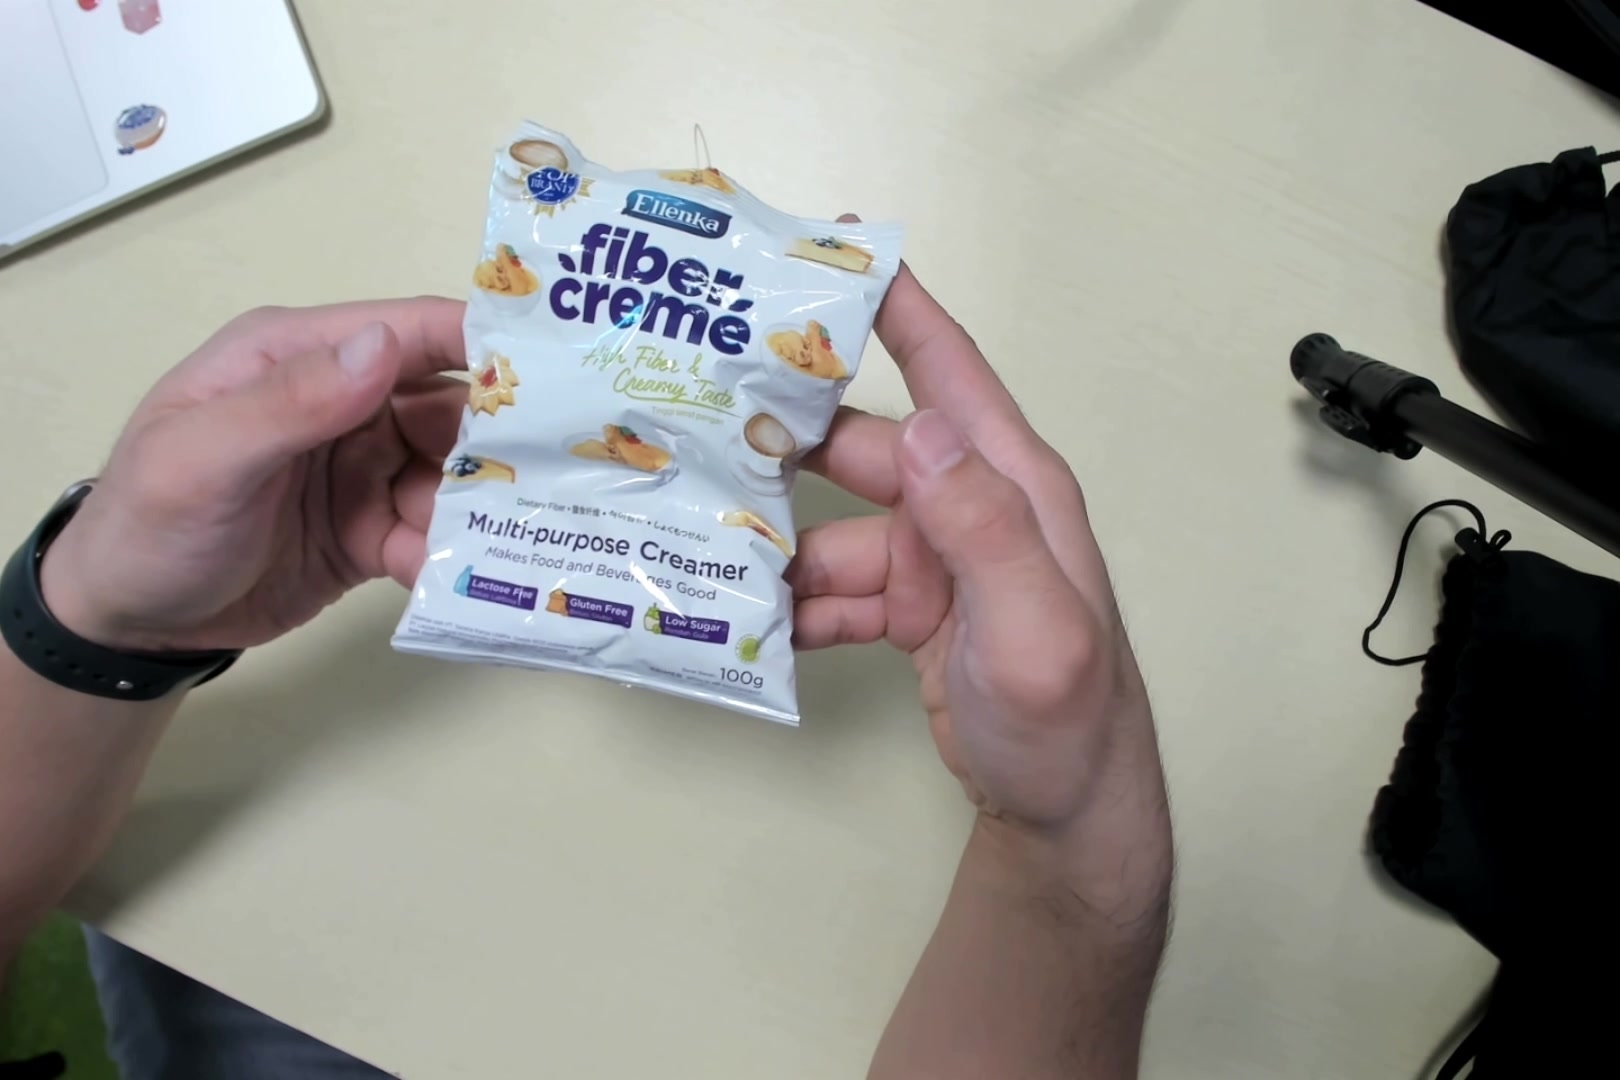OtherBakingNeeds_100-199g_Halal_NonHealthy: (397, 123, 892, 740)
